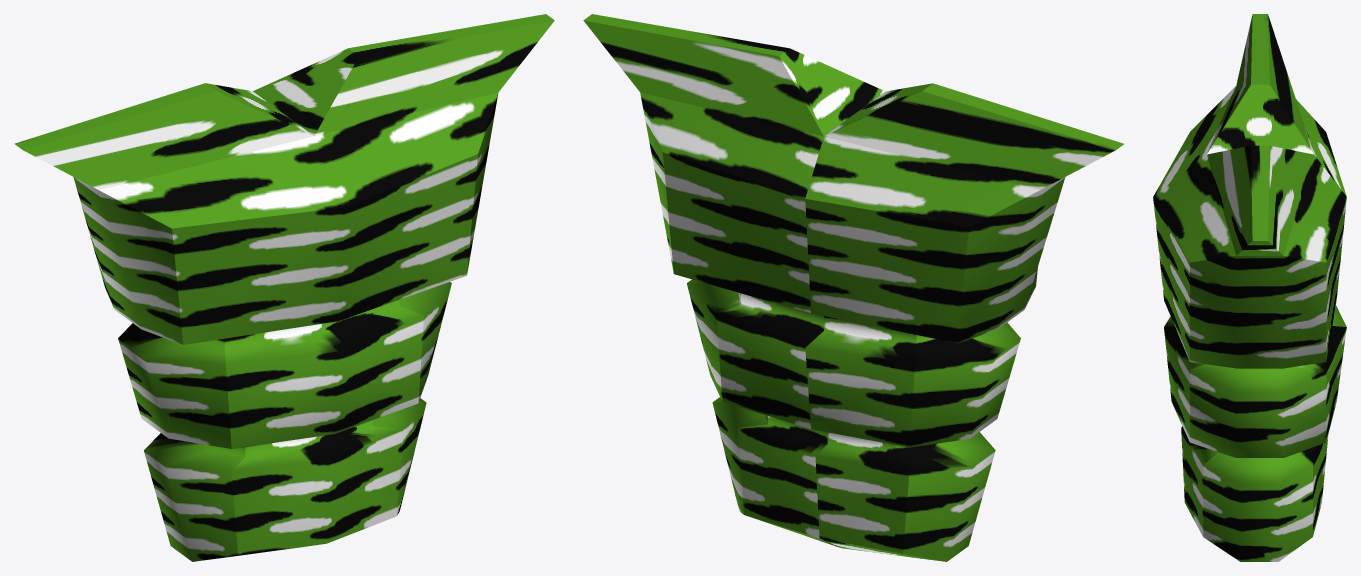
Rendered from torsoMan.fbx.
The picture shows the model from 3 angles, left to right: view 1: azimuth 30°, elevation 25°; view 2: azimuth 150°, elevation 25°; view 3: azimuth 270°, elevation 25°; orthographic projection. The views are drawn at different scales.
Parts seen in each view (by area): view 1: pCube2; view 2: pCube2; view 3: pCube2.
Part boxes in pixels (<box>): pCube2: <box>14,14,554,561</box>; pCube2: <box>583,14,1123,561</box>; pCube2: <box>1153,14,1346,561</box>.
Size of the model in its own units: 265 by 223 by 95.75.
